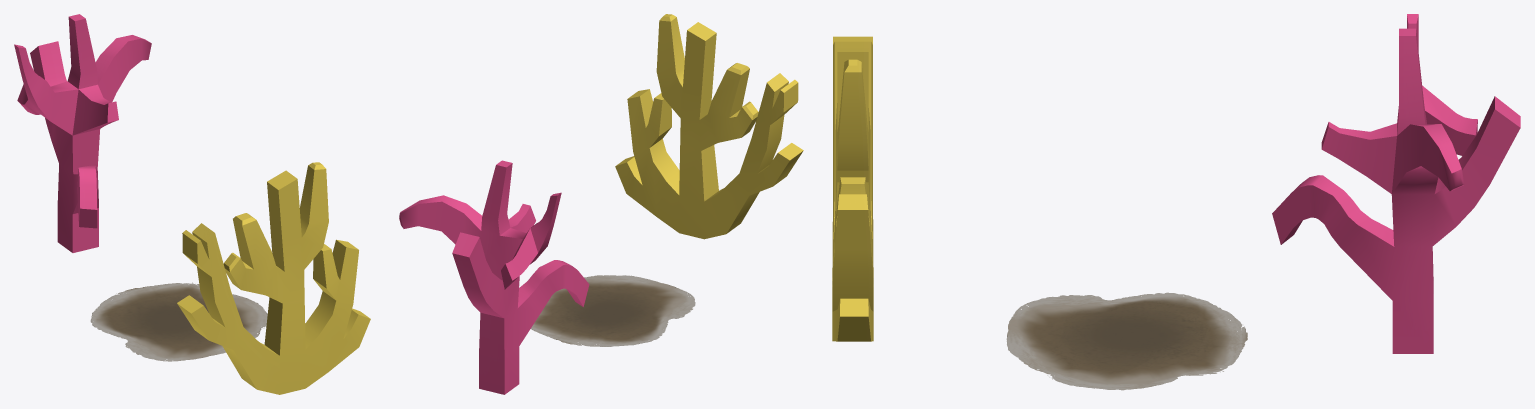
File: Normal Coral.fbx
The picture shows the model from 3 angles, left to right: view 1: azimuth 30°, elevation 25°; view 2: azimuth 150°, elevation 25°; view 3: azimuth 270°, elevation 25°; orthographic projection. The views are drawn at different scales.
Parts seen in each view (by area): view 1: Cube.001, Cube, Plane; view 2: Cube.001, Cube, Plane; view 3: Cube, Plane, Cube.001.
Part boxes in pixels (left/top/right/bottom): Cube.001: left=177, top=162, right=370, bottom=394; Cube: left=14, top=14, right=151, bottom=252; Plane: left=90, top=282, right=267, bottom=361; Cube.001: left=615, top=14, right=803, bottom=239; Cube: left=399, top=160, right=589, bottom=394; Plane: left=531, top=275, right=695, bottom=346; Cube: left=1272, top=14, right=1520, bottom=353; Plane: left=1006, top=292, right=1247, bottom=390; Cube.001: left=832, top=36, right=873, bottom=341.
Size of the model in its own units: 1013 by 1176 by 2360.
